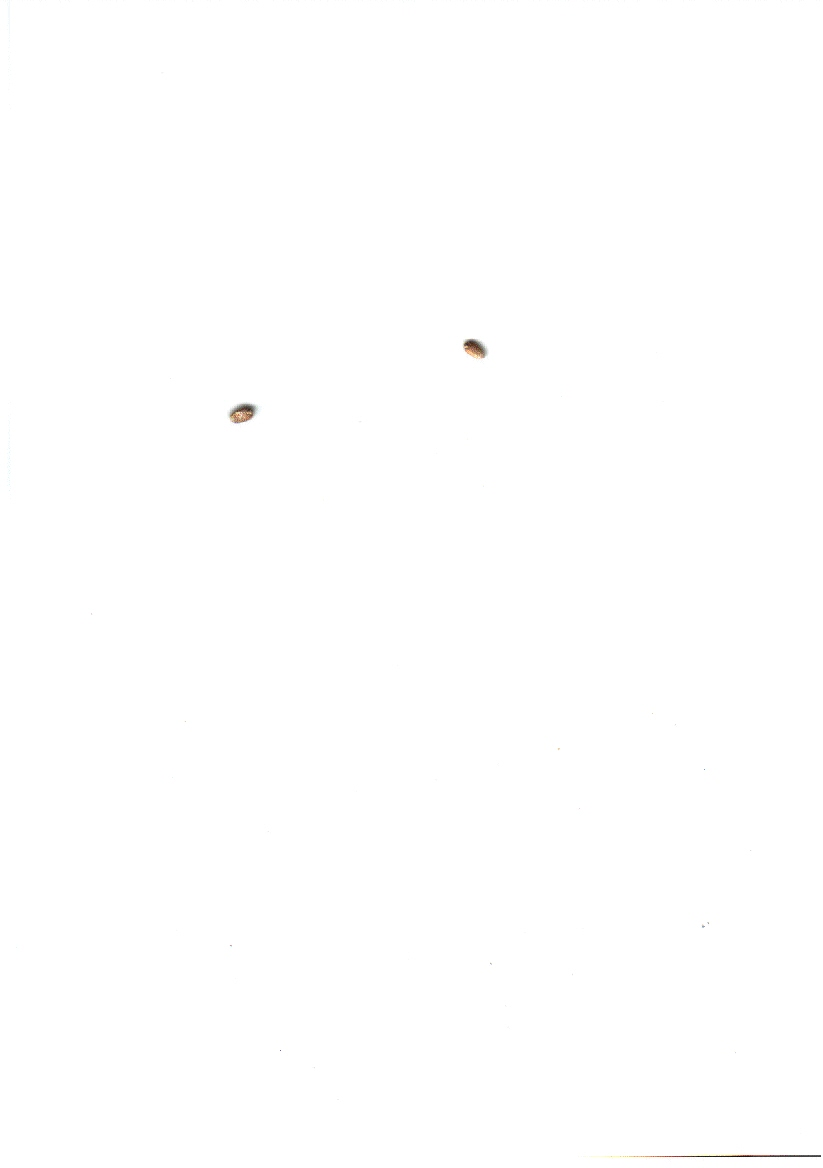grains: (219, 393, 267, 438), (449, 332, 497, 373)
